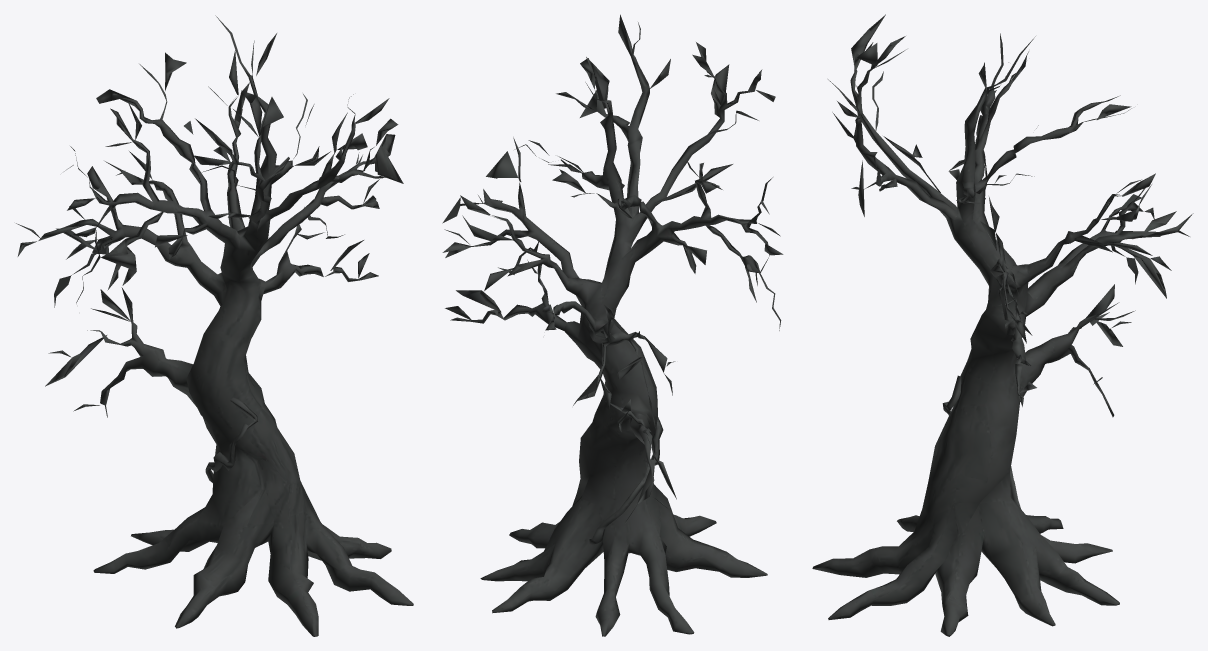
Rendered from tree_dead_hi.glb.
3 views of the same model, side by side, from view 1: azimuth 30°, elevation 25°; view 2: azimuth 150°, elevation 25°; view 3: azimuth 270°, elevation 25° (orthographic). The views are drawn at different scales.
Size of the model in its own units: 0.6167 by 0.9541 by 0.6113.
1 material, 1 textured.
